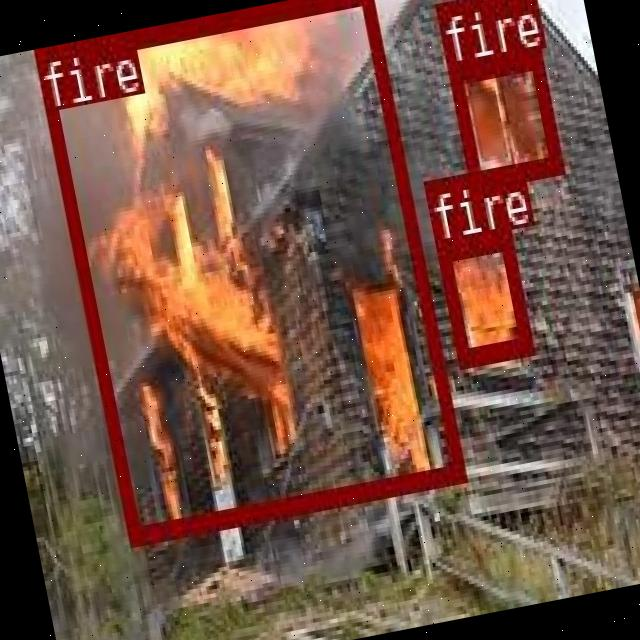fire: (34, 0, 462, 544), (446, 46, 562, 186), (435, 228, 532, 366)
